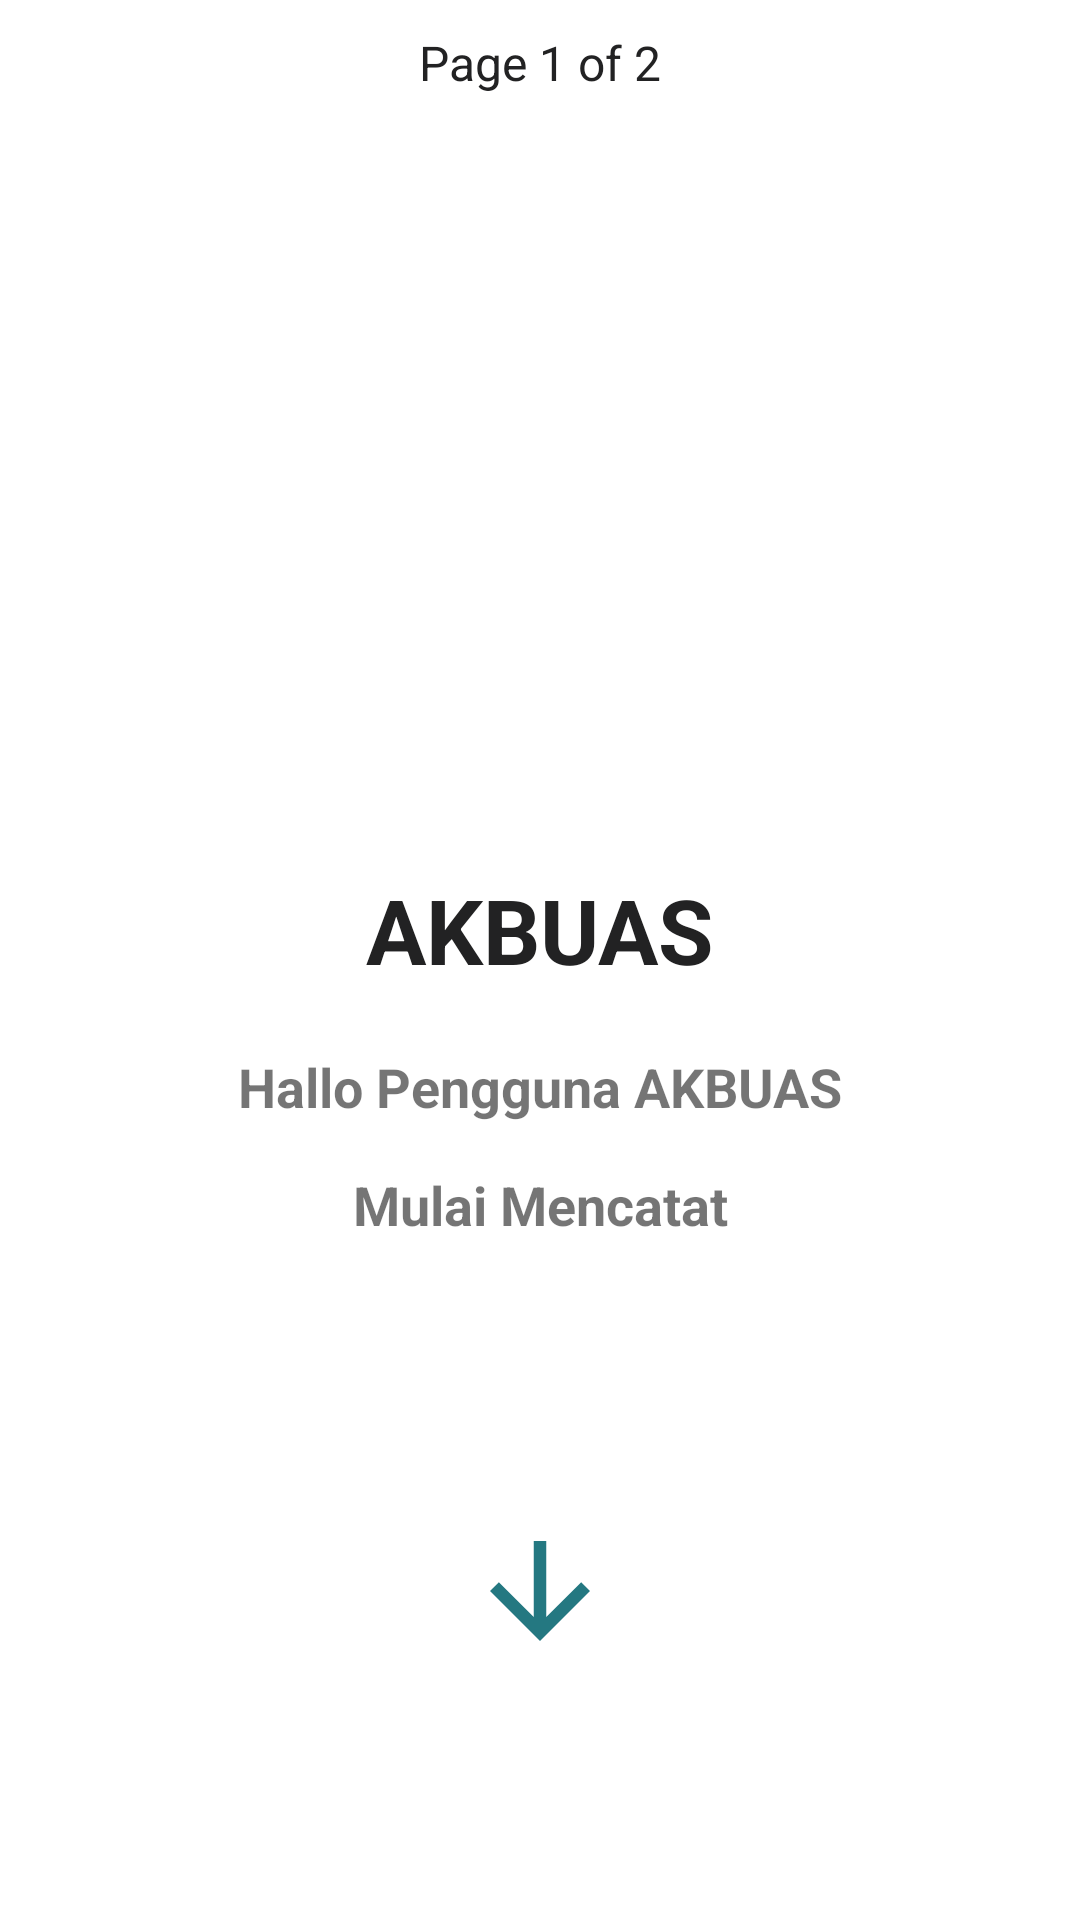

Point at icon controls on the screen. Image size 1080w x 1920h, points as (x,y).
arrow downward: (540,1591)
